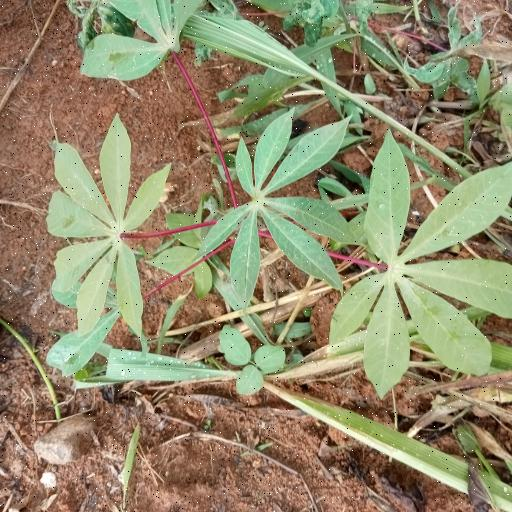Cassava_Mosaic: (337, 143, 504, 377), (51, 124, 168, 334)
